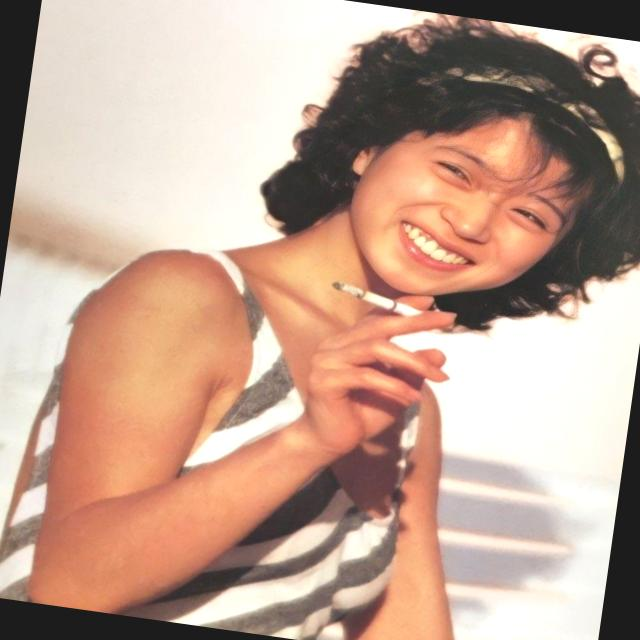smoke: (300, 254, 484, 343)
